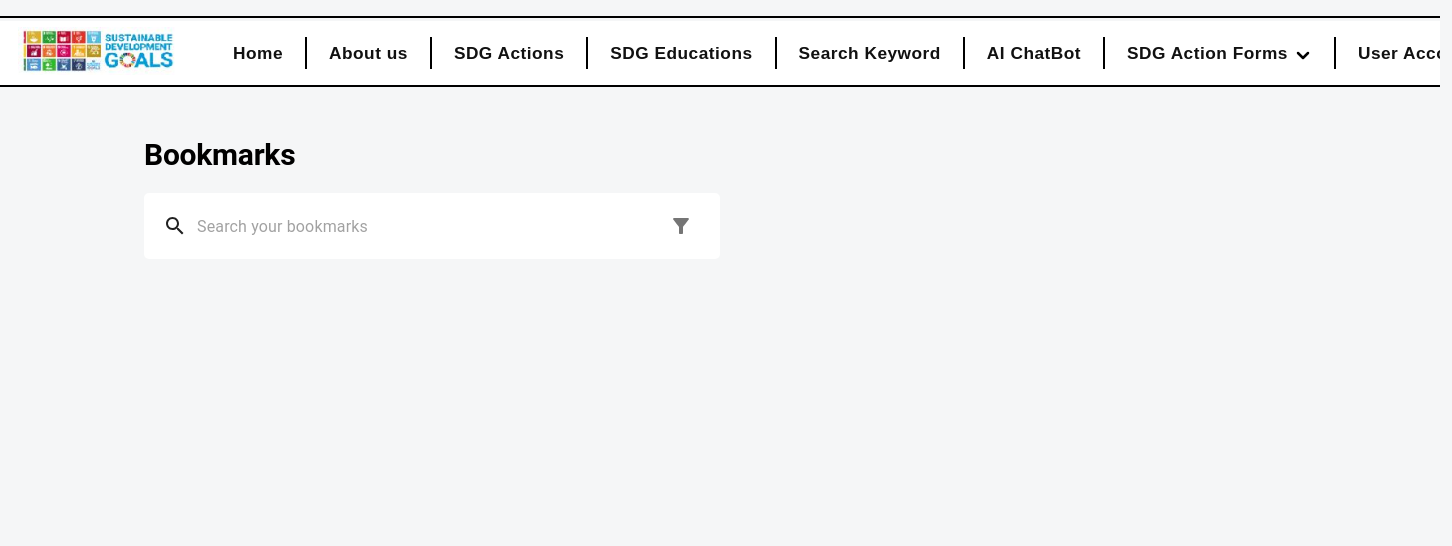
Test: Bookmarks Page › filters out education bookmarks when "Education" is unchecked
Click the button named "filter".
click(681, 226)  # box [661,206,701,246]
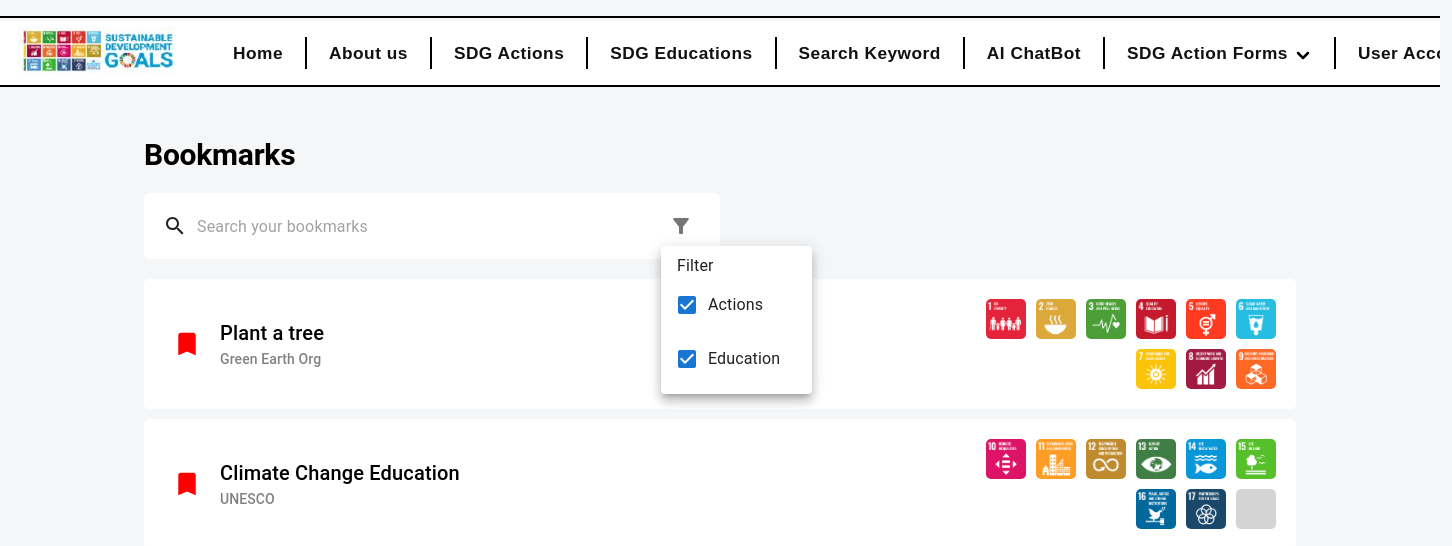
Result: the heading "Plant a tree" is shown at [220,317,324,349]
Result: the heading "Climate Change Education" is shown at [220,457,460,489]
Click the checkbox labelled "Education".
click(728, 359)  # box [675,347,780,371]
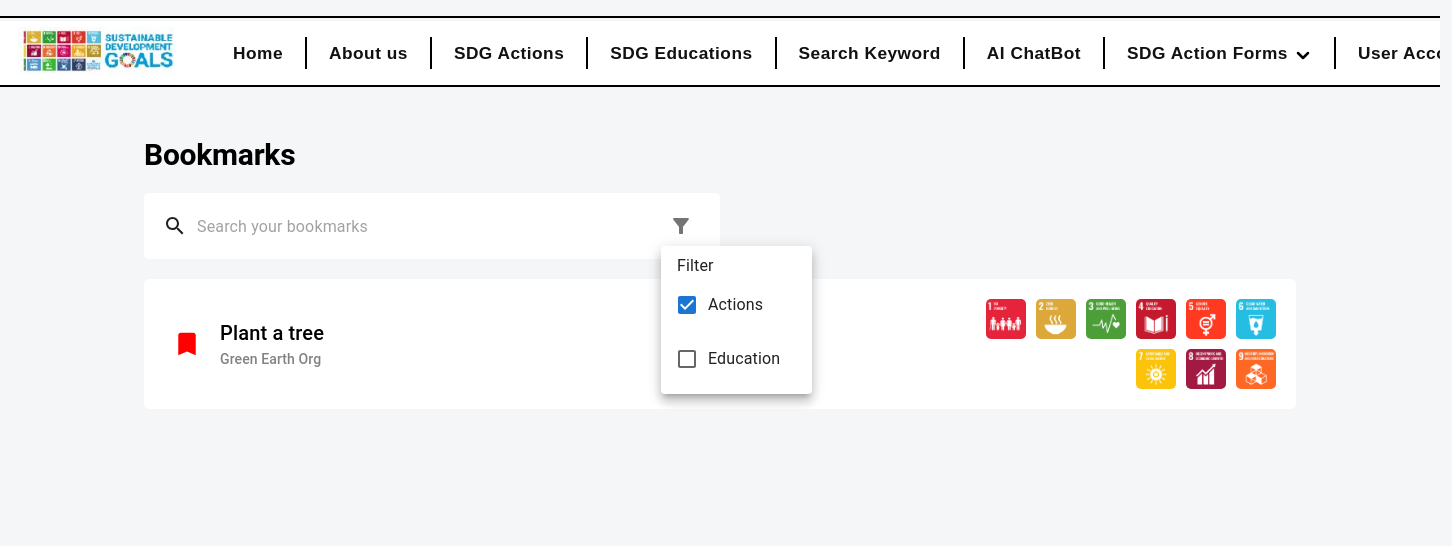
Result: the heading "Plant a tree" is shown at [220,317,324,349]
Result: the heading "Climate Change Education" is gone
